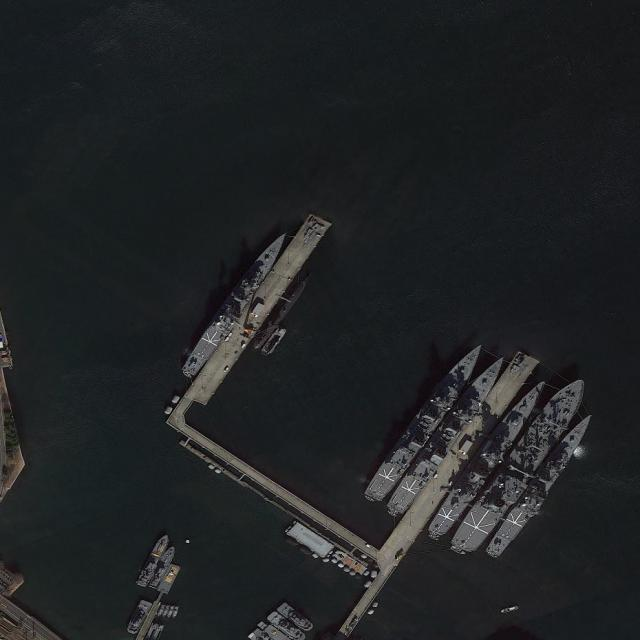Auxiliary Ships: (448, 370, 595, 559)
Destroyer: (424, 370, 555, 541), (362, 334, 490, 508), (385, 349, 509, 520), (180, 224, 293, 380), (487, 409, 599, 559)
Dock: (377, 348, 540, 565), (172, 213, 330, 425)
Hovercraft: (277, 599, 317, 634), (268, 610, 310, 639), (125, 597, 153, 636)
Other Ship: (260, 325, 288, 359), (450, 545, 467, 556), (426, 533, 440, 542), (182, 370, 193, 379), (389, 506, 400, 515), (364, 495, 376, 503), (386, 510, 398, 518), (429, 531, 441, 539)
Other Warship: (136, 531, 171, 589), (149, 543, 177, 590)
Submarine: (249, 276, 307, 353)
